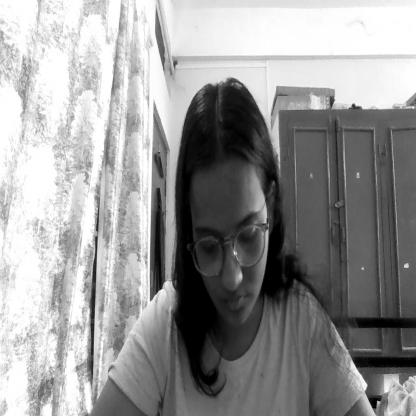Normal: (184, 98, 274, 330)
